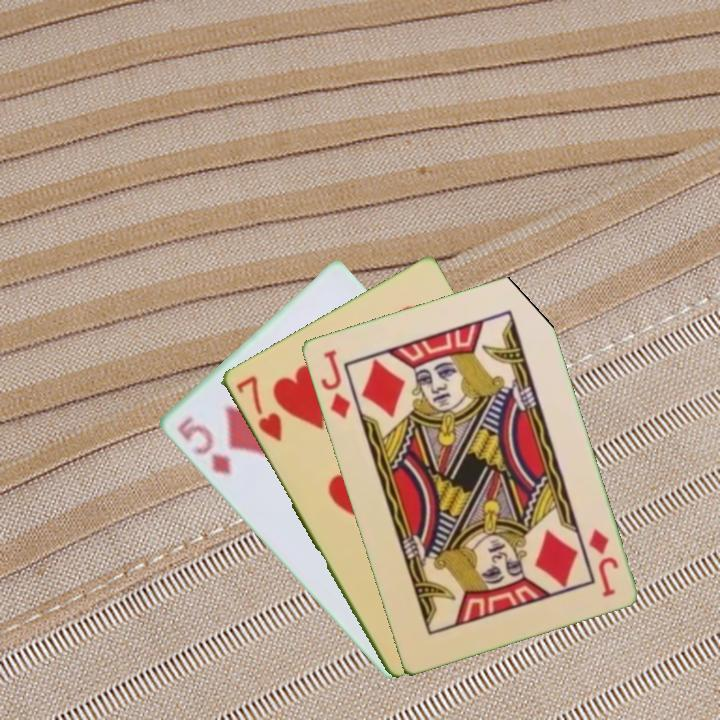5d: (173, 412, 235, 478)
7h: (231, 372, 285, 444)
Jd: (316, 346, 353, 421), (584, 525, 621, 600)
